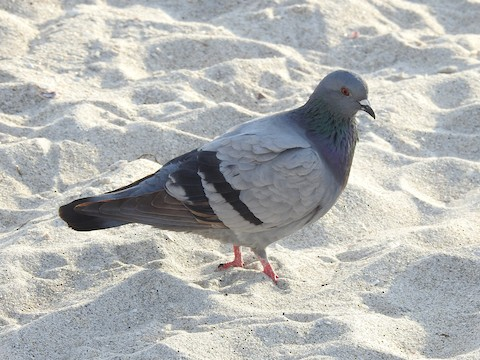pigeon: (58, 63, 380, 285)
